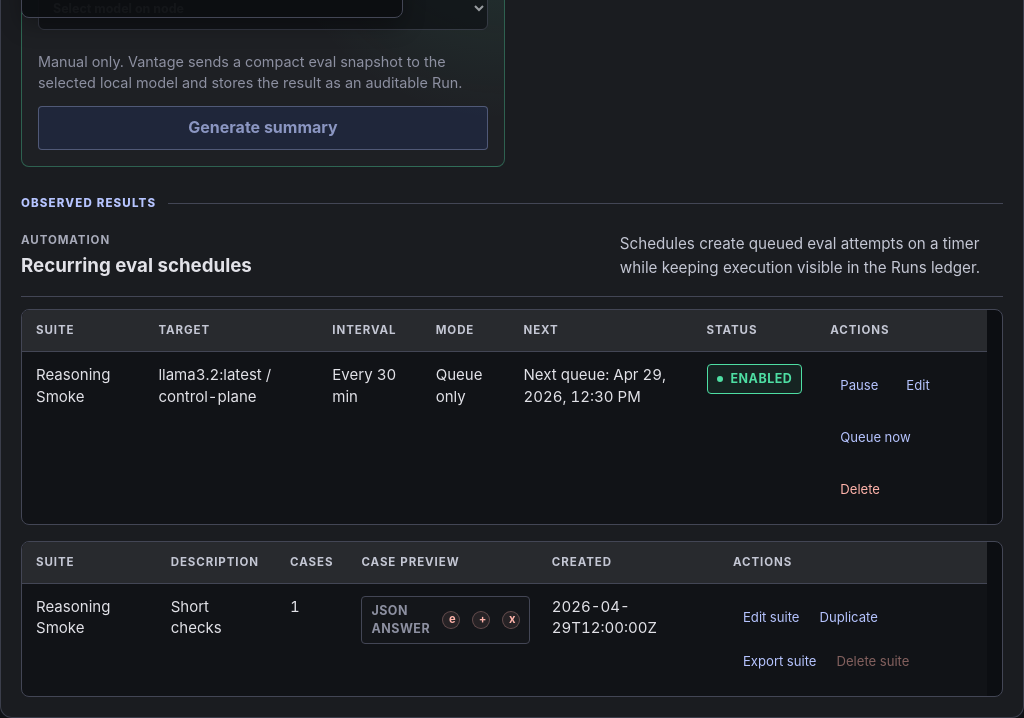
Test case: EvalsPage › removes eval schedules, cases, and empty suites from the lab
(page scrolled)
Check: the heading "Recurring eval schedules" is shown, box [21,254,252,277]
Check: the text "JSON Answer" is shown, box [371,602,430,638]
Click the button with aria-label "delete schedule reasoning smoke". click: (860,490)
box: [830,468,890,512]
(page scrolled)
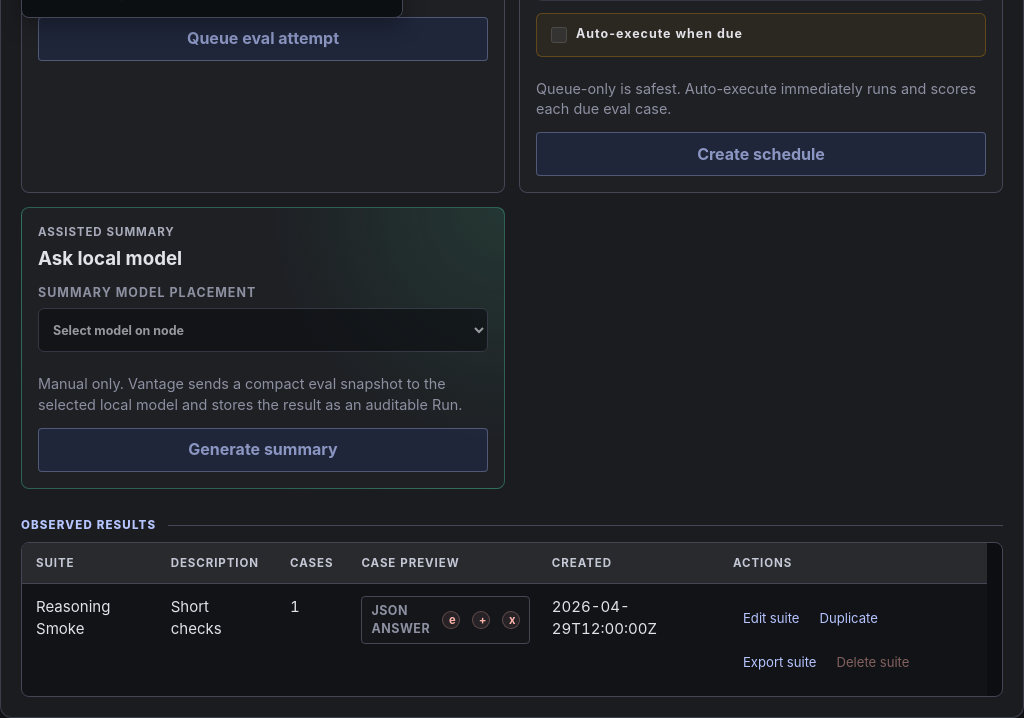
Check: the heading "Recurring eval schedules" is gone
Click the button named "delete case json answer". click: (511,620)
box: [502,611,520,629]
(page scrolled)
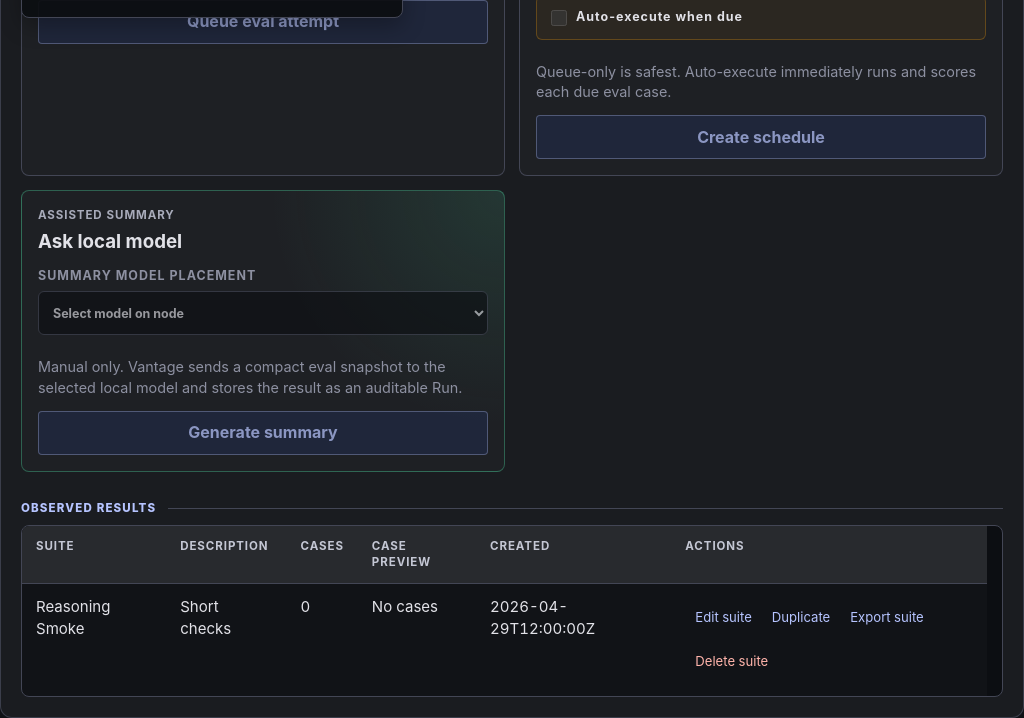
Check: the text "No cases" is shown, box [358,584,476,696]
Click the button with aria-label "delete suite reasoning smoke". click: (732,662)
box: [685,640,778,684]
(page scrolled)
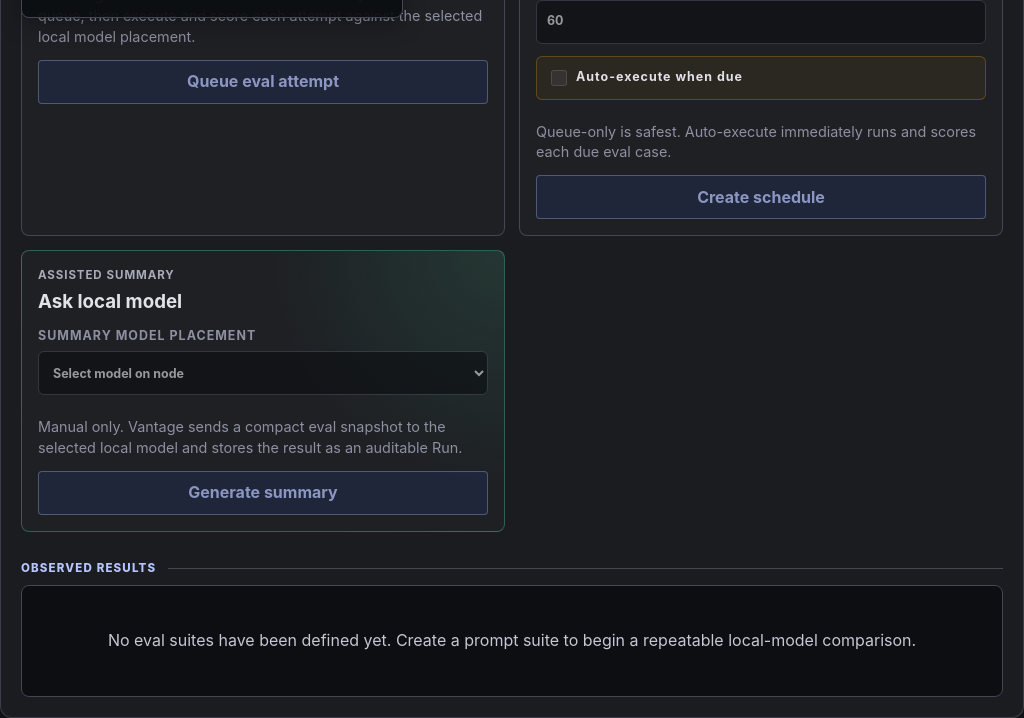
Check: the text "No eval suites have been defined yet" is shown, box [108,630,916,650]
